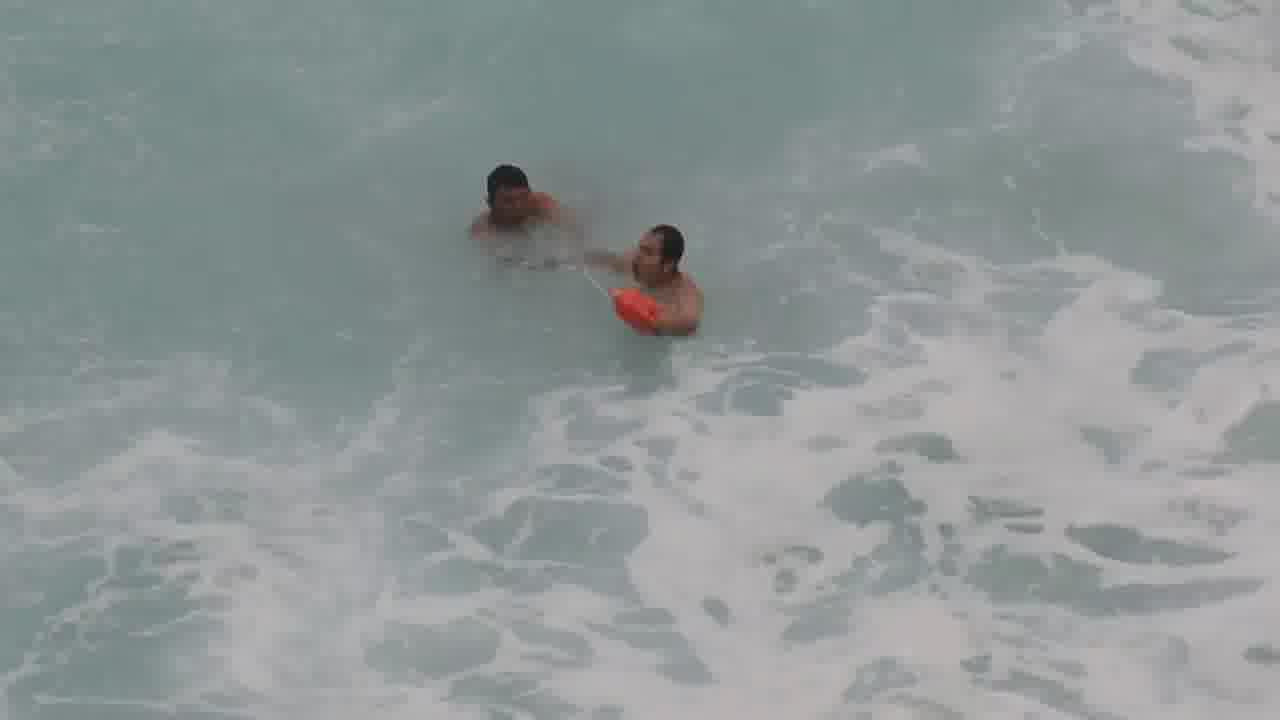human: (587, 224, 728, 345), (457, 155, 590, 270)
